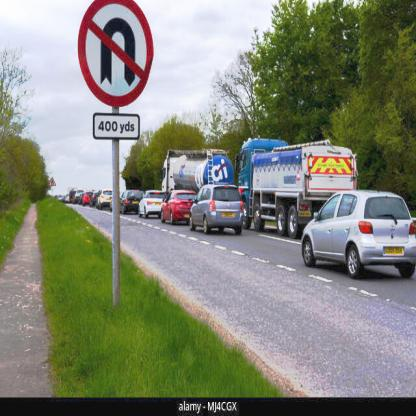No U-turn: (77, 0, 157, 113)
